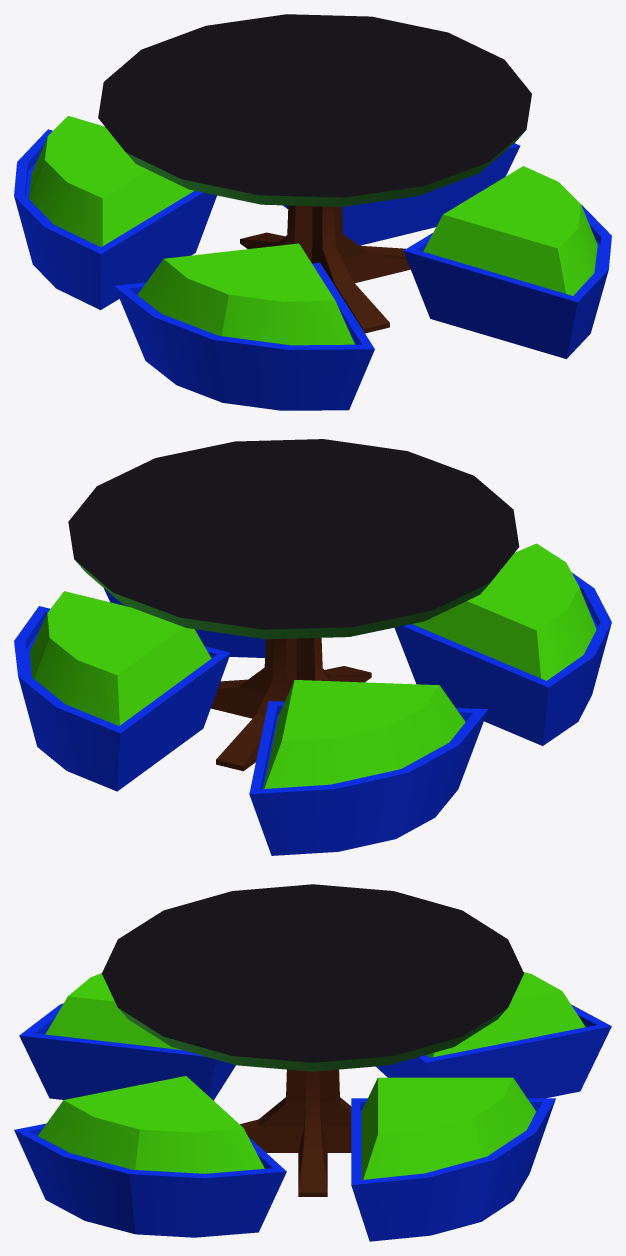
Rendered from House_KidsRoom_Table.FBX.
3 views of the same model, one above another, from view 1: azimuth 30°, elevation 25°; view 2: azimuth 150°, elevation 25°; view 3: azimuth 270°, elevation 25° (orthographic). The views are drawn at different scales.
Visible parts, largest first — view 1: House_KidsRoom_Table_top, House_KidsRoom_Table_seat3 (×2), House_KidsRoom_Table_seat2, House_KidsRoom_Table_cushion2, House_KidsRoom_Table_cushion1, House_KidsRoom_Table_seat1, House_KidsRoom_Table_cushion3, House_KidsRoom_Table_legs; view 2: House_KidsRoom_Table_top, House_KidsRoom_Table_seat3 (×2), House_KidsRoom_Table_cushion3, House_KidsRoom_Table_cushion4, House_KidsRoom_Table_cushion2, House_KidsRoom_Table_seat2, House_KidsRoom_Table_legs, House_KidsRoom_Table_seat1; view 3: House_KidsRoom_Table_top, House_KidsRoom_Table_seat3 (×2), House_KidsRoom_Table_seat1, House_KidsRoom_Table_cushion1, House_KidsRoom_Table_cushion4, House_KidsRoom_Table_seat2, House_KidsRoom_Table_legs, House_KidsRoom_Table_cushion3, House_KidsRoom_Table_cushion2.
Boxes of the visible parts, x1=… form: House_KidsRoom_Table_top: x1=98, y1=14, x2=531, y2=206; House_KidsRoom_Table_seat3 (×2): x1=14, y1=129, x2=520, y2=310; House_KidsRoom_Table_seat2: x1=114, y1=262, x2=374, y2=410; House_KidsRoom_Table_cushion2: x1=137, y1=243, x2=354, y2=345; House_KidsRoom_Table_cushion1: x1=423, y1=166, x2=597, y2=295; House_KidsRoom_Table_seat1: x1=403, y1=205, x2=611, y2=358; House_KidsRoom_Table_cushion3: x1=28, y1=116, x2=194, y2=246; House_KidsRoom_Table_legs: x1=240, y1=205, x2=410, y2=333; House_KidsRoom_Table_top: x1=68, y1=439, x2=519, y2=639; House_KidsRoom_Table_seat3 (×2): x1=14, y1=606, x2=488, y2=855; House_KidsRoom_Table_cushion3: x1=263, y1=680, x2=465, y2=788; House_KidsRoom_Table_cushion4: x1=30, y1=591, x2=211, y2=725; House_KidsRoom_Table_cushion2: x1=413, y1=543, x2=596, y2=680; House_KidsRoom_Table_seat2: x1=394, y1=572, x2=611, y2=745; House_KidsRoom_Table_legs: x1=211, y1=638, x2=371, y2=771; House_KidsRoom_Table_seat1: x1=104, y1=588, x2=265, y2=657; House_KidsRoom_Table_top: x1=102, y1=884, x2=523, y2=1071; House_KidsRoom_Table_seat3 (×2): x1=351, y1=1004, x2=611, y2=1241; House_KidsRoom_Table_seat1: x1=14, y1=1123, x2=286, y2=1237; House_KidsRoom_Table_cushion1: x1=38, y1=1076, x2=264, y2=1173; House_KidsRoom_Table_cushion4: x1=361, y1=1077, x2=535, y2=1179; House_KidsRoom_Table_seat2: x1=19, y1=1003, x2=235, y2=1100; House_KidsRoom_Table_legs: x1=240, y1=1069, x2=351, y2=1196; House_KidsRoom_Table_cushion3: x1=427, y1=972, x2=585, y2=1057; House_KidsRoom_Table_cushion2: x1=45, y1=973, x2=181, y2=1049.
Bounding box in the file's own units: 189 × 71.83 × 225.
